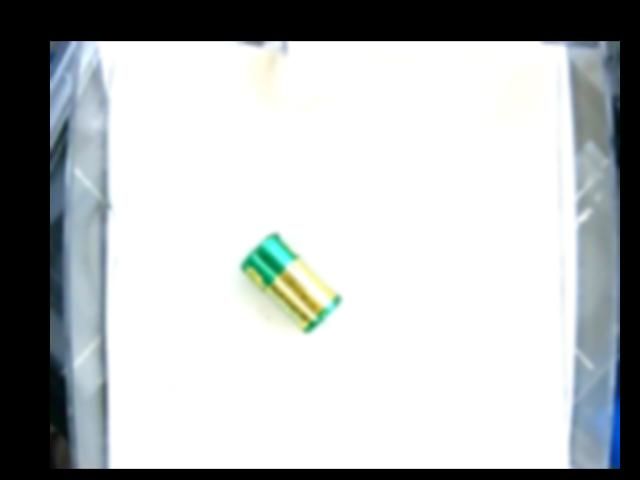Battery: (242, 230, 343, 329)
